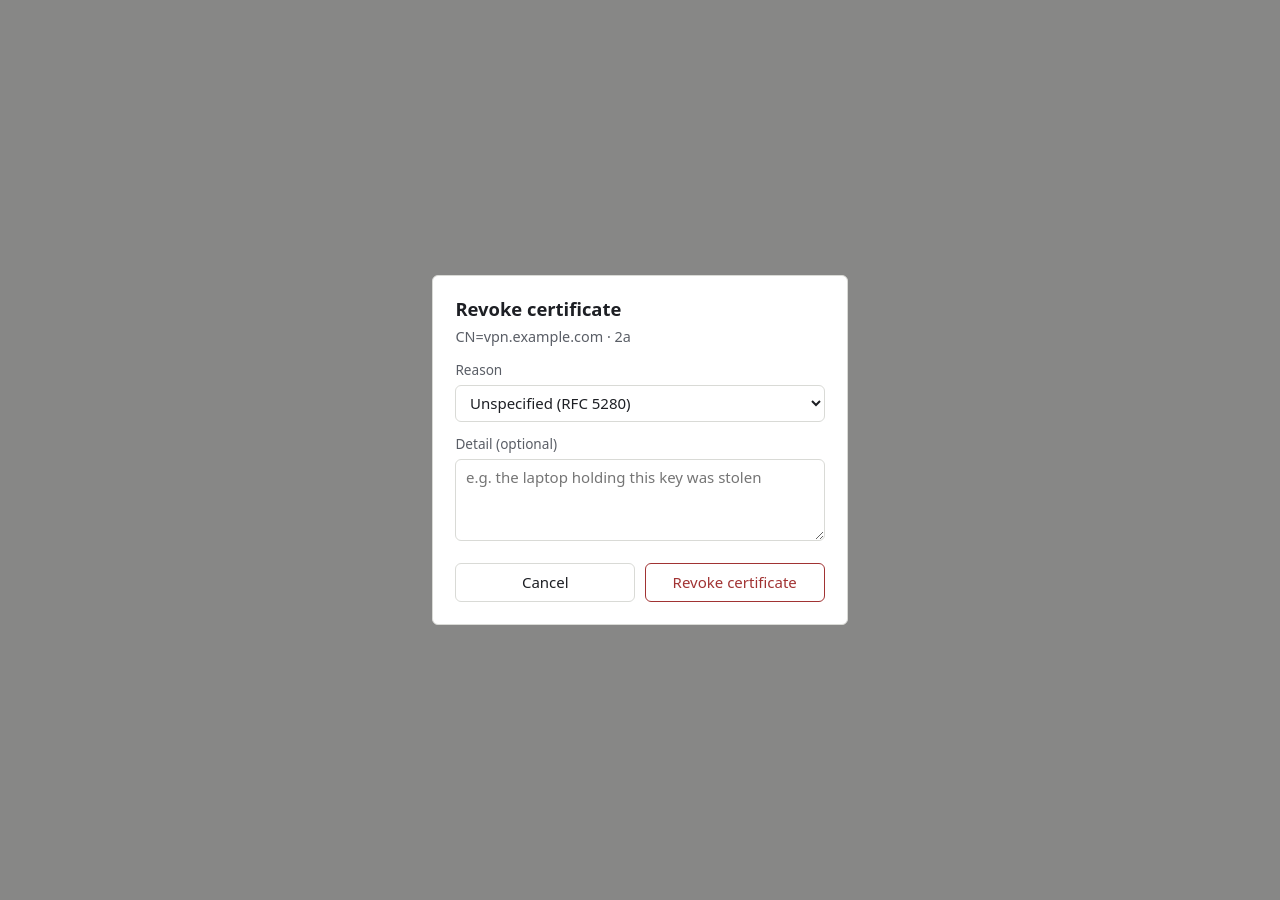
it: RevokeDialog › disables both buttons while the revoke is in flight
Click the button "Revoke certificate": click(735, 582) [645,563,825,602]
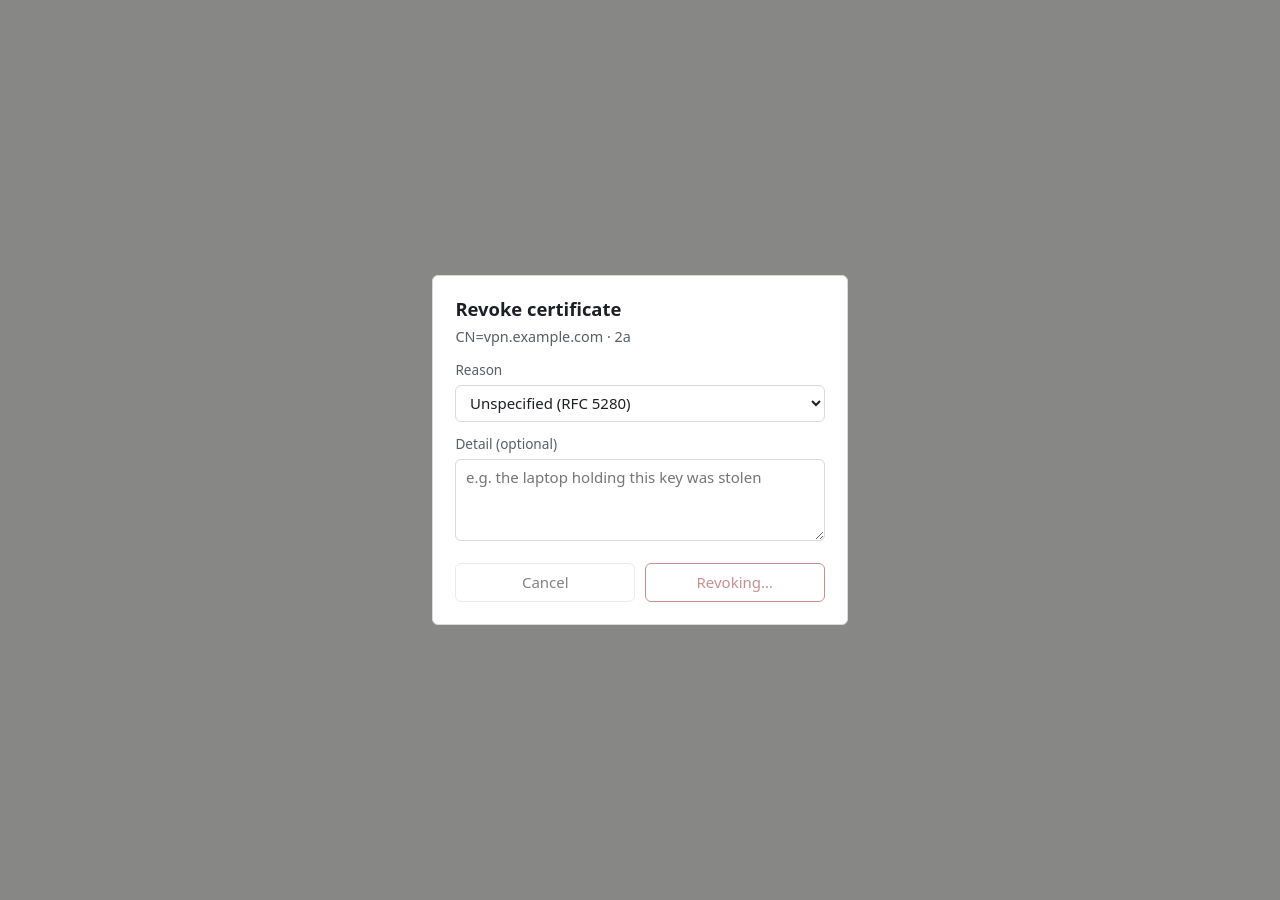
Expected: the button "Revoking…" is disabled, [645,563,825,602]
Expected: the button "Cancel" is disabled, [455,563,635,602]
